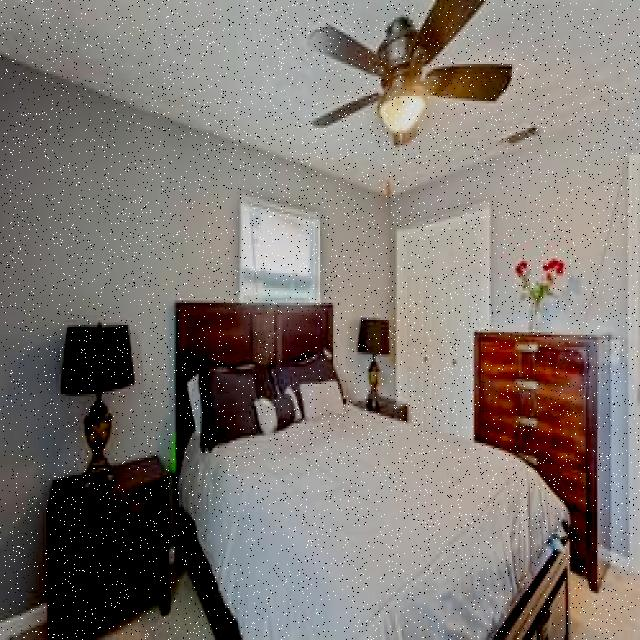bed: (161, 362, 571, 640)
